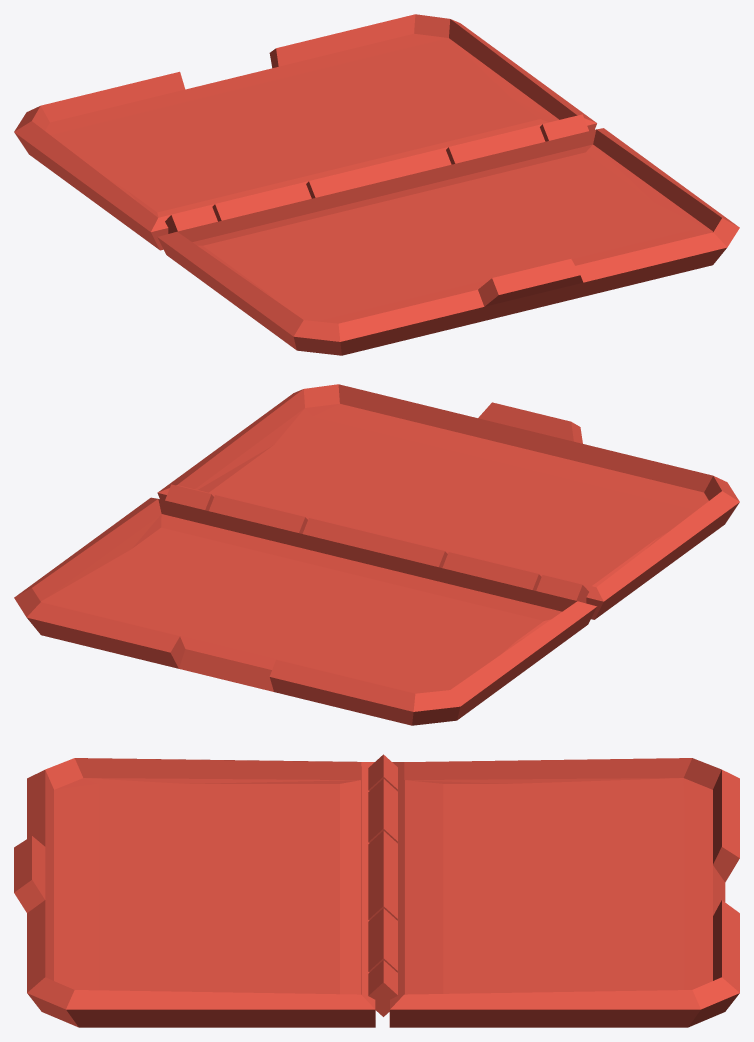
The model's file is SM_Color_Checker.fbx.
The picture shows the model from 3 angles, top to bottom: view 1: azimuth 30°, elevation 25°; view 2: azimuth 150°, elevation 25°; view 3: azimuth 270°, elevation 25°; orthographic projection. The views are drawn at different scales.
Visible parts, largest first — view 1: SM_Color_Checker; view 2: SM_Color_Checker; view 3: SM_Color_Checker.
Part boxes in pixels (x1=…): SM_Color_Checker: x1=14, y1=14, x2=739, y2=355; SM_Color_Checker: x1=14, y1=384, x2=739, y2=725; SM_Color_Checker: x1=14, y1=754, x2=739, y2=1027.
Size of the model in its own units: 18.04 by 14.55 by 1.41.
